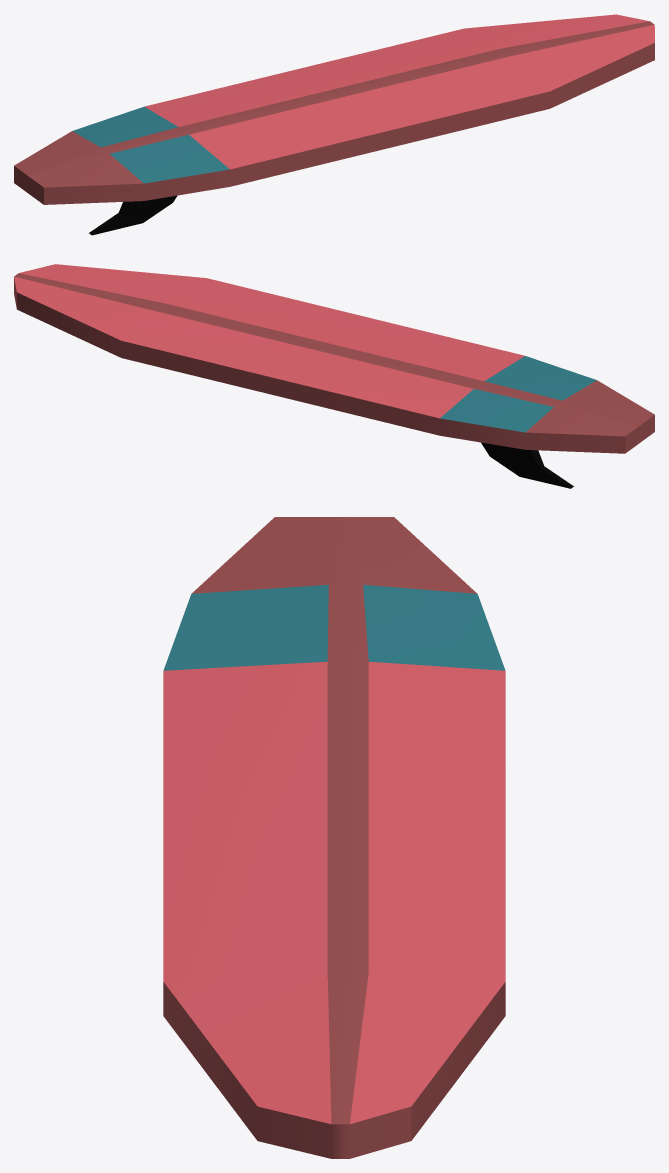
File: beach_surfboard.fbx
3 views of the same model, one above another, from view 1: azimuth 30°, elevation 25°; view 2: azimuth 150°, elevation 25°; view 3: azimuth 270°, elevation 25° (orthographic). The views are drawn at different scales.
Parts seen in each view (by area): view 1: pCube14; view 2: pCube14; view 3: pCube14.
Boxes of the visible parts, x1,y1,x2,y2 form: pCube14: (14,14,654,235); pCube14: (14,264,654,488); pCube14: (163,517,505,1158).
Size of the model in its own units: 1.95 by 0.2401 by 0.4653.
